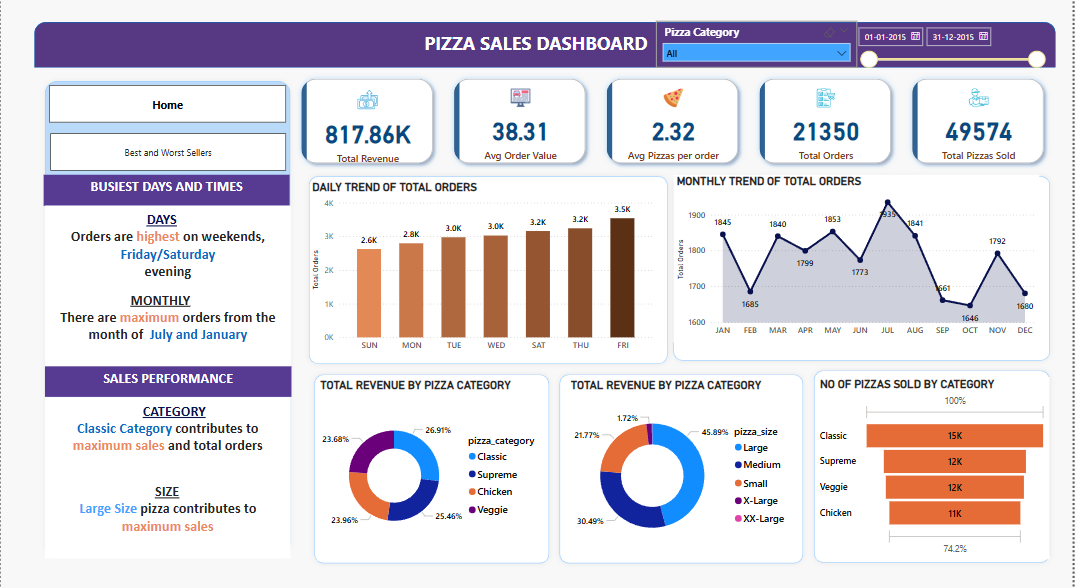

The dashboard page shown, as its layout file describes it:
{"tool":"powerbi","page":{"name":"Home","canvas":[1600,885],"ordinal":0},"visuals":[{"type":"cardVisual","fields":{"Data":["pizza_sales (1).Total Revenue","pizza_sales (1).Avg Order Value","pizza_sales (1).Avg Pizzas per order","pizza_sales (1).Total Orders","pizza_sales (1).Total Pizzas Sold"]},"box":[431.7,101.7,1143.3,160],"z":0},{"type":"shape","box":[50,33.3,1525,68.3],"z":1000},{"type":"textbox","box":[620,42.5,357.5,50],"z":2000},{"type":"shape","box":[451.7,255,551.7,296.7],"z":3000},{"type":"columnChart","title":"DAILY TREND OF TOTAL ORDERS","fields":{"Y":["pizza_sales (1).Total Orders"],"Category":["pizza_sales (1).order_day"]},"box":[460,270,518.3,265],"z":4000},{"type":"shape","box":[996.7,255,578.3,291.7],"z":5000},{"type":"areaChart","title":"MONTHLY TREND OF TOTAL ORDERS","fields":{"Category":["pizza_sales (1).order_month"],"Y":["pizza_sales (1).Total Orders"]},"box":[1003.3,261.7,546.7,250],"z":6000},{"type":"shape","box":[460,551.7,366.7,298.3],"z":7000},{"type":"shape","box":[826.7,551.7,380,298.3],"z":8000},{"type":"shape","box":[1206.7,546.7,368.3,303.3],"z":9000},{"type":"donutChart","title":"TOTAL REVENUE BY PIZZA CATEGORY","fields":{"Category":["pizza_sales (1).pizza_category"],"Y":["pizza_sales (1).Total Revenue"]},"box":[471.7,566.7,341.7,271.7],"z":10000},{"type":"donutChart","title":"TOTAL REVENUE BY PIZZA CATEGORY","fields":{"Category":["pizza_sales (1).pizza_size"],"Y":["pizza_sales (1).Total Revenue"]},"box":[845,566.7,341.7,271.7],"z":11000},{"type":"funnel","title":"NO OF PIZZAS SOLD BY CATEGORY","fields":{"Category":["pizza_sales (1).pizza_category"],"Y":["pizza_sales (1).Total Pizzas Sold"]},"box":[1218.3,563.3,348.3,271.7],"z":12000},{"type":"shape","box":[57.8,114.4,382.2,724.4],"z":13000},{"type":"textbox","box":[64.7,262,367.3,46],"z":14000},{"type":"textbox","box":[65,308,367,244],"z":15000},{"type":"textbox","box":[65.6,547.8,367.8,45.6],"z":16000},{"type":"textbox","box":[65.6,594.4,366.7,241.1],"z":17000},{"type":"slicer","fields":{"Values":["pizza_sales (1).order_date"]},"box":[1267.1,32.9,300,95.7],"z":19000},{"type":"pageNavigator","box":[64,200,352,56],"z":19001},{"type":"pageNavigator","box":[68.6,128.6,352.9,55.7],"z":19002},{"type":"slicer","fields":{"Values":["pizza_sales (1).pizza_category"]},"box":[977.1,32.9,300,68.6],"z":19003}]}

Visuals, with their boxes in screenshot pixels (x1, y1, x2, y2), scaled from the page's 1600x885 canvas onto the 1077x588 screenshot:
cardVisual - pizza_sales (1).Total Revenue x pizza_sales (1).Avg Order Value: [291,68,1060,174]
shape: [34,22,1060,68]
textbox: [417,28,658,61]
shape: [304,169,675,367]
"DAILY TREND OF TOTAL ORDERS" columnChart: [310,179,659,355]
shape: [671,169,1060,363]
"MONTHLY TREND OF TOTAL ORDERS" areaChart: [675,174,1043,340]
shape: [310,367,556,565]
shape: [556,367,812,565]
shape: [812,363,1060,565]
"TOTAL REVENUE BY PIZZA CATEGORY" donutChart: [318,377,548,557]
"TOTAL REVENUE BY PIZZA CATEGORY" donutChart: [569,377,799,557]
"NO OF PIZZAS SOLD BY CATEGORY" funnel: [820,374,1055,555]
shape: [39,76,296,557]
textbox: [44,174,291,205]
textbox: [44,205,291,367]
textbox: [44,364,292,394]
textbox: [44,395,291,555]
slicer - pizza_sales (1).order_date: [853,22,1055,85]
pageNavigator: [43,133,280,170]
pageNavigator: [46,85,284,122]
slicer - pizza_sales (1).pizza_category: [658,22,860,67]
